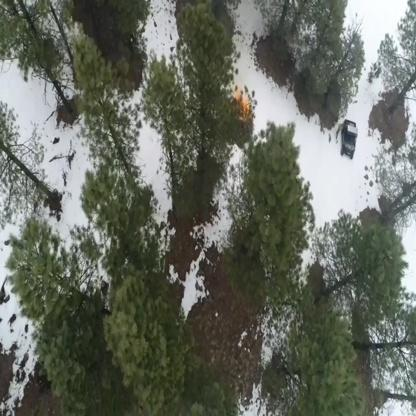Fire: (244, 102, 250, 116), (236, 94, 240, 100)
